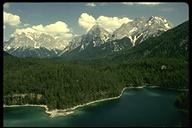cloud: (17, 23, 72, 35)
mountain: (5, 15, 176, 66)
sky: (3, 2, 176, 15)
tree: (7, 62, 185, 85)
water: (3, 91, 178, 127)
